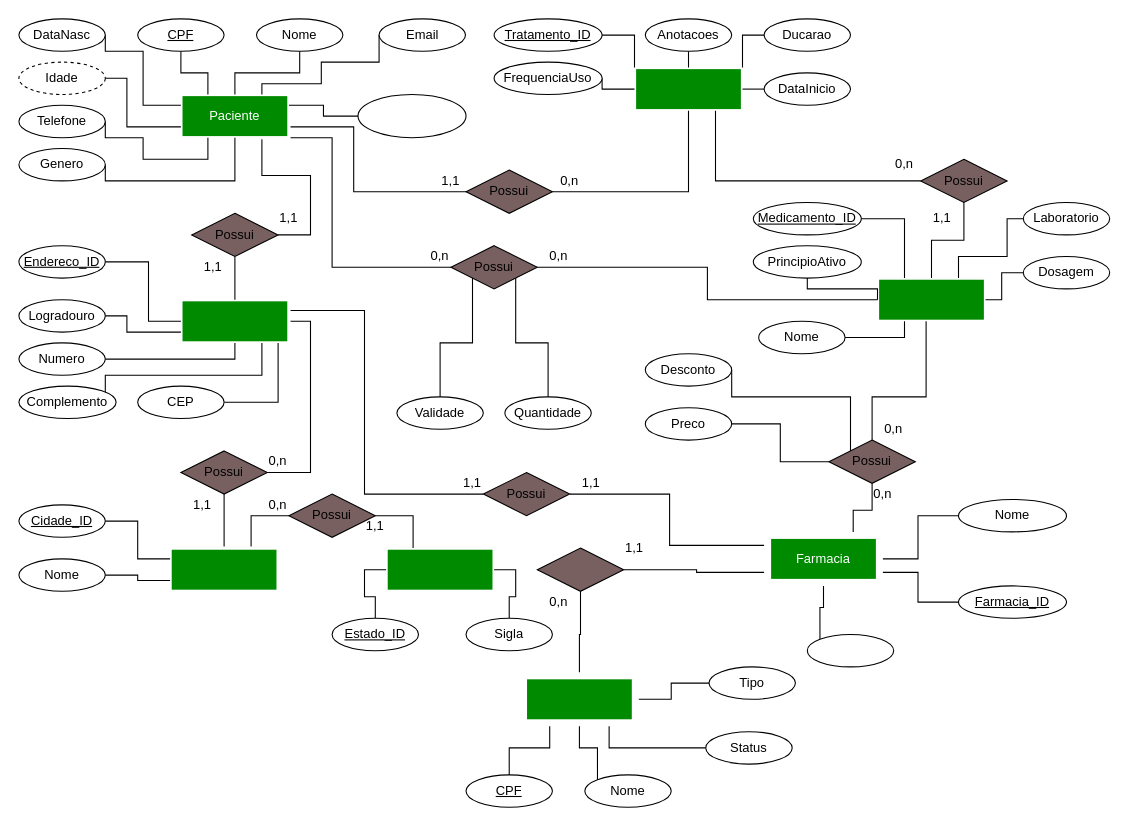
This 1129x826 diagram has some shape labels left out. Here are the shapes that lost their labels. From the top down, the box of each, then its label:
(632, 65, 744, 112): Tratamento
(357, 93, 466, 138): DataCadastro
(875, 276, 987, 322): Medicamento
(179, 298, 290, 344): Endereco
(168, 546, 279, 592): Cidade
(384, 546, 495, 592): Estado
(536, 547, 624, 591): Trabalha
(806, 633, 894, 667): Avaliacao
(523, 676, 634, 722): Funcionario
